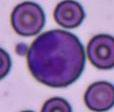E: (27, 30, 84, 88)
